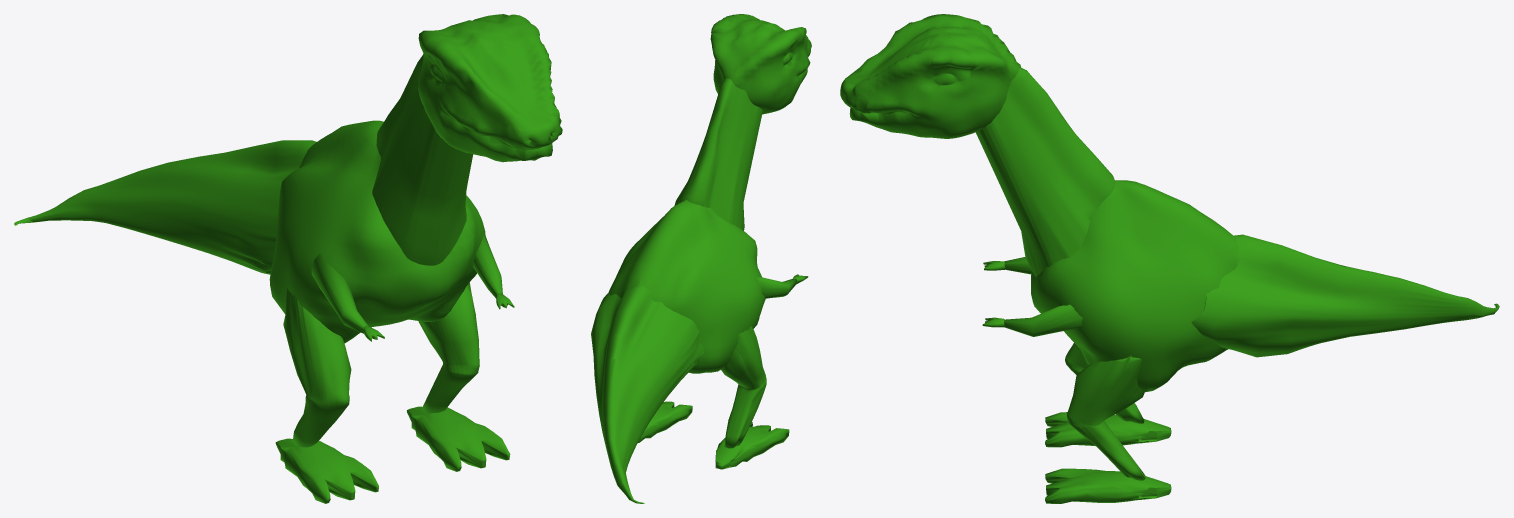
File: dino.fbx
The picture shows the model from 3 angles, left to right: view 1: azimuth 30°, elevation 25°; view 2: azimuth 150°, elevation 25°; view 3: azimuth 270°, elevation 25°; orthographic projection. The views are drawn at different scales.
Visible parts, largest first — view 1: krop.002, hale, hoved.002, hals.002, Ben X.002, ben Y.002, fod.003, fod.001, arm.004, arm.005; view 2: krop.002, hale, hoved.002, hals.002, Ben X.002, fod.001, fod.003, arm.004; view 3: krop.002, hale, hoved.002, hals.002, ben Y.002, fod.003, fod.001, arm.005, Ben X.002.
Part boxes in pixels (box(x1,y1,x2,y2)): krop.002: box(269, 120, 485, 343); hale: box(14, 140, 316, 274); hoved.002: box(418, 14, 562, 162); hals.002: box(372, 54, 473, 265); Ben X.002: box(283, 288, 351, 447); ben Y.002: box(418, 283, 479, 413); fod.003: box(407, 406, 510, 471); fod.001: box(275, 438, 378, 503); arm.004: box(311, 253, 368, 333); arm.005: box(473, 234, 502, 298); krop.002: box(608, 200, 765, 373); hale: box(591, 285, 704, 503); hoved.002: box(710, 14, 811, 114); hals.002: box(674, 78, 762, 230); Ben X.002: box(721, 326, 766, 448); fod.001: box(715, 422, 789, 469); fod.003: box(638, 401, 692, 442); arm.004: box(757, 277, 797, 298); krop.002: box(1031, 180, 1239, 392); hale: box(1191, 234, 1499, 357); hoved.002: box(840, 14, 1020, 138); hals.002: box(976, 67, 1114, 276); ben Y.002: box(1067, 355, 1145, 480); fod.003: box(1045, 468, 1171, 503); fod.001: box(1045, 412, 1171, 447); arm.005: box(1004, 304, 1082, 336); Ben X.002: box(1065, 343, 1144, 423).
Bounding box in the file's own units: 397 × 767 × 1043.
